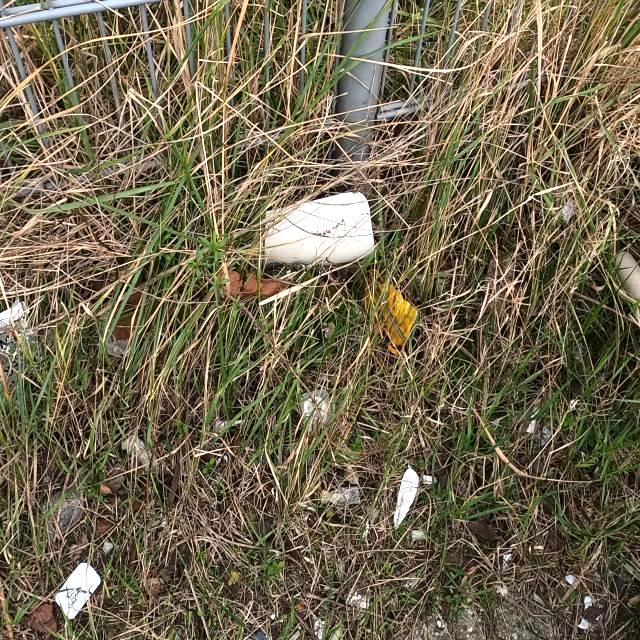Coffee Cup: (262, 201, 388, 277)
